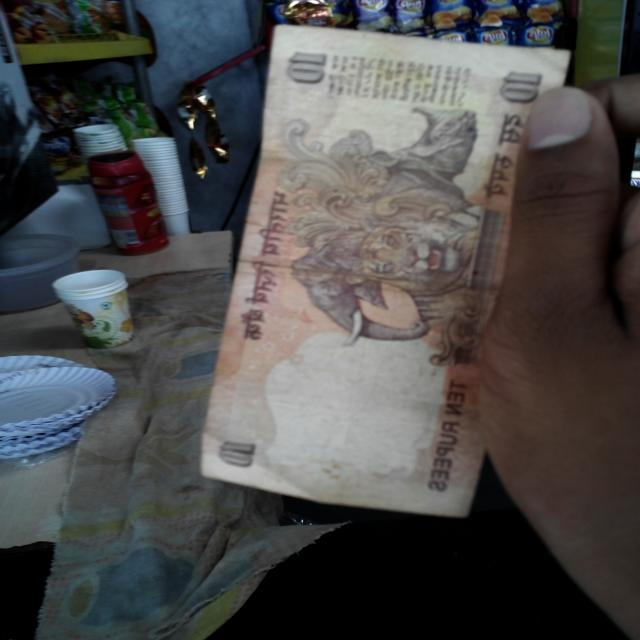10rs: (202, 23, 574, 520)
